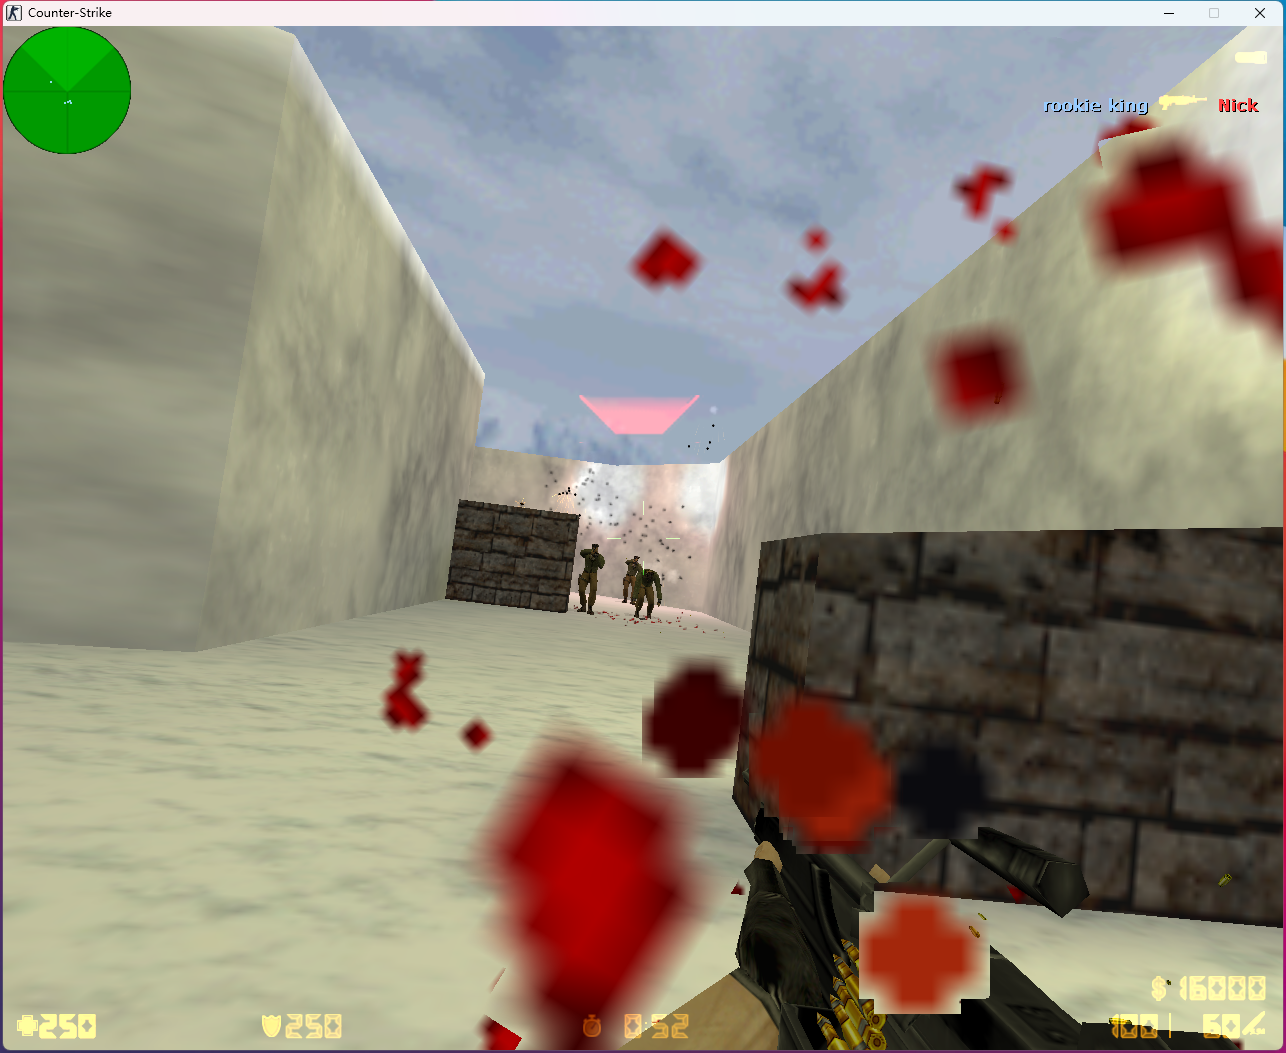T: (573, 545, 607, 614), (632, 566, 662, 619), (620, 553, 639, 602)
